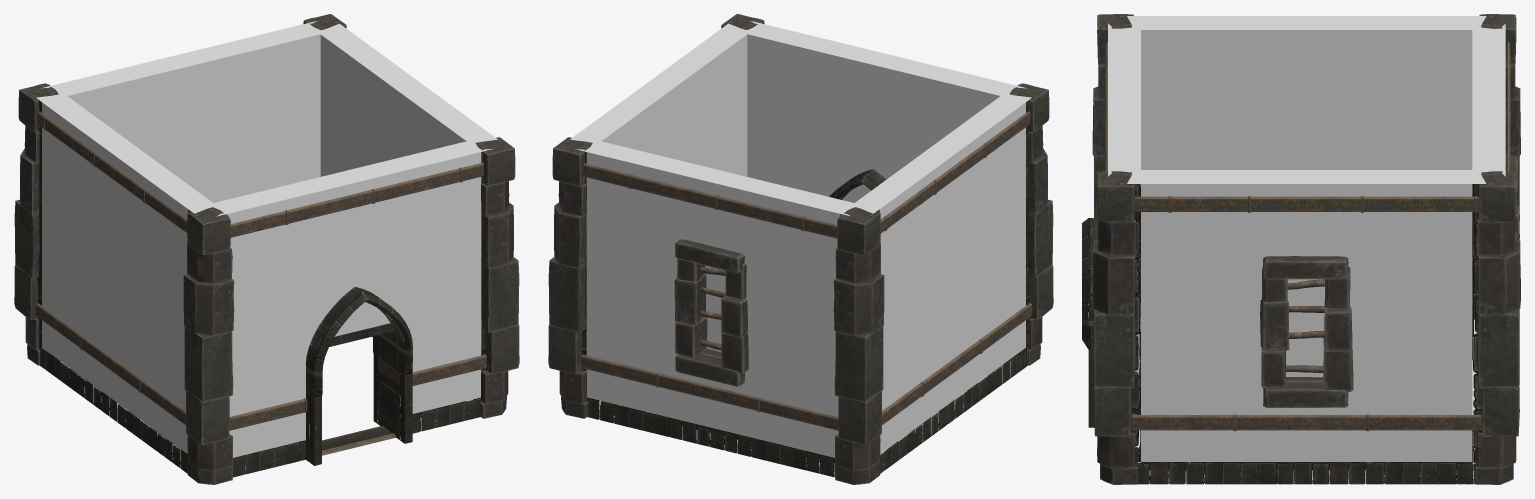
3 views of the same model, side by side, from view 1: azimuth 30°, elevation 25°; view 2: azimuth 150°, elevation 25°; view 3: azimuth 270°, elevation 25° (orthographic). The views are drawn at different scales.
Visible parts, largest first — view 1: SM_Dowdun_Tower_Room_12x12_01_LOD0; view 2: SM_Dowdun_Tower_Room_12x12_01_LOD0; view 3: SM_Dowdun_Tower_Room_12x12_01_LOD0.
Boxes of the visible parts, x1=… form: SM_Dowdun_Tower_Room_12x12_01_LOD0: x1=14, y1=14, x2=519, y2=484; SM_Dowdun_Tower_Room_12x12_01_LOD0: x1=548, y1=14, x2=1053, y2=484; SM_Dowdun_Tower_Room_12x12_01_LOD0: x1=1082, y1=14, x2=1520, y2=484.
Size of the model in its own units: 12.73 by 10.01 by 13.25.
Materials: 4 (3 with a texture image).
